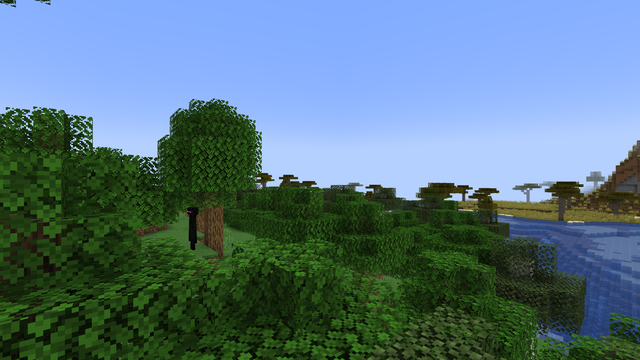endermens: (186, 215, 198, 250)
